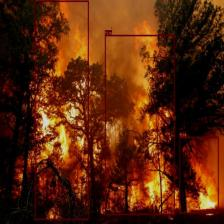fire: (104, 35, 174, 215), (35, 0, 89, 220), (179, 136, 219, 214)
